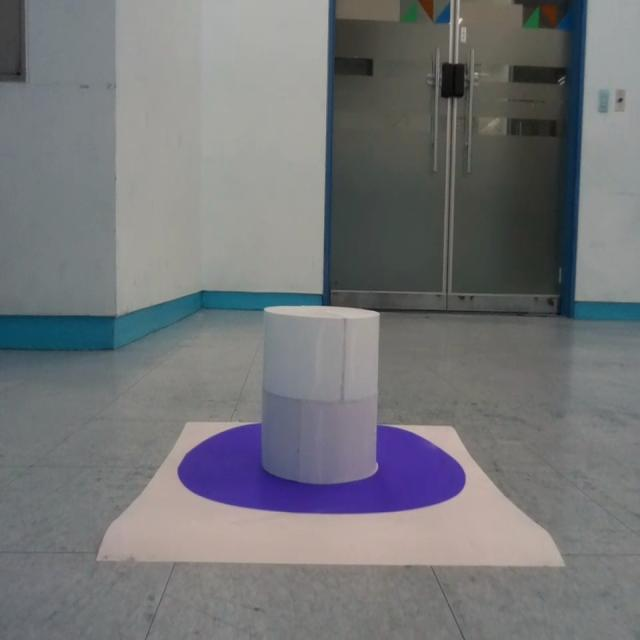cylinder: (261, 305, 380, 485)
